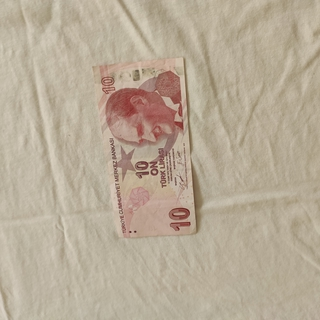10TLFront: (90, 55, 198, 239)
